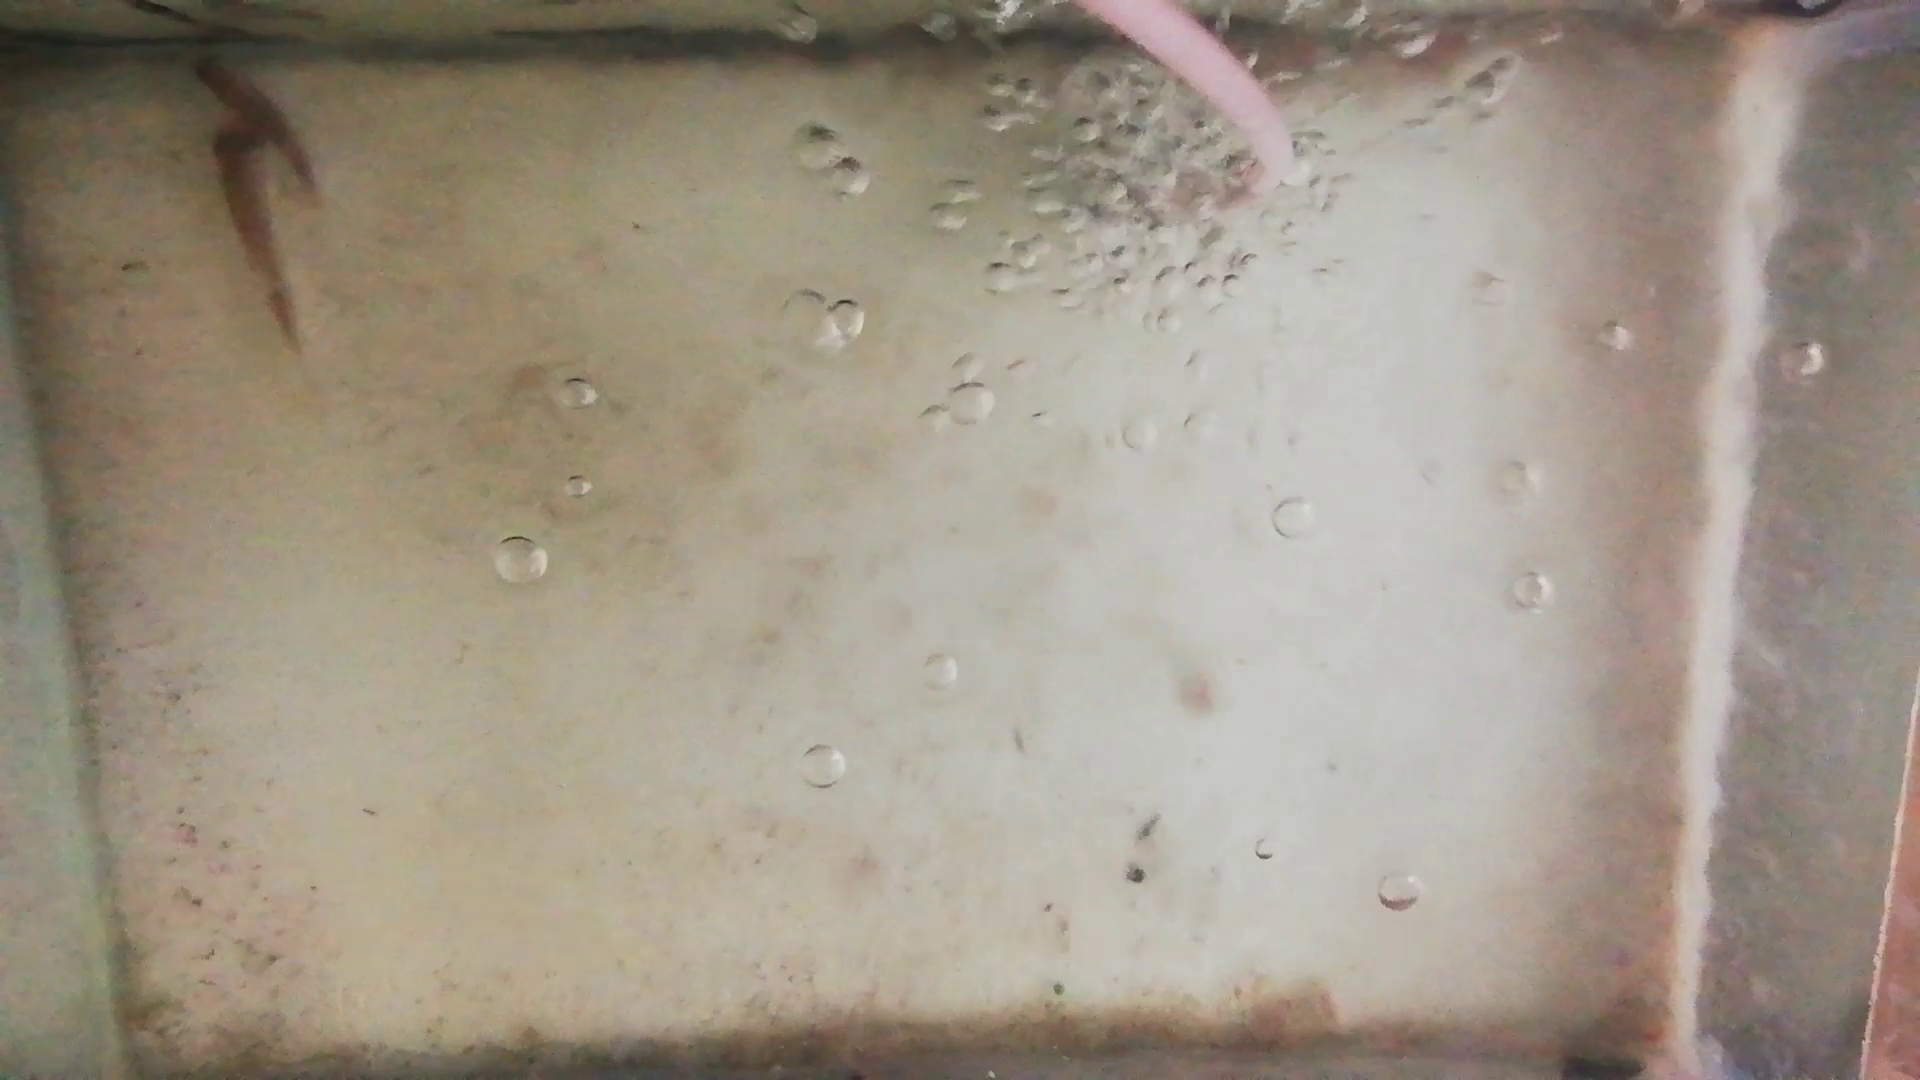fish: (210, 109, 297, 344), (191, 51, 319, 189)
